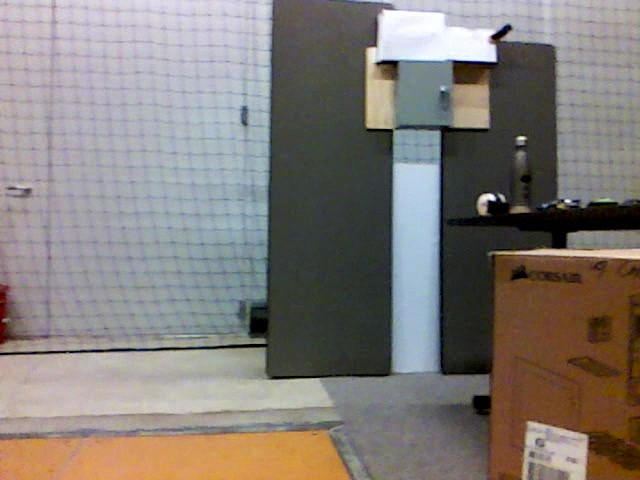box: (492, 249, 639, 480)
